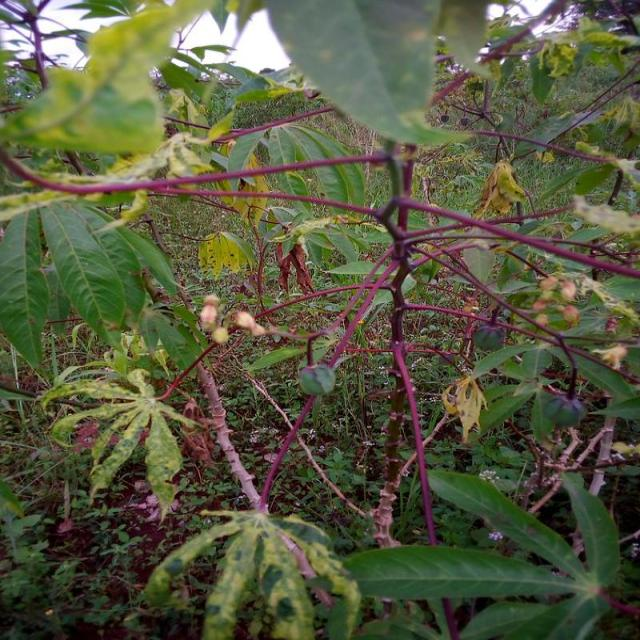cassava leaf: (264, 0, 483, 147), (144, 507, 361, 638)
